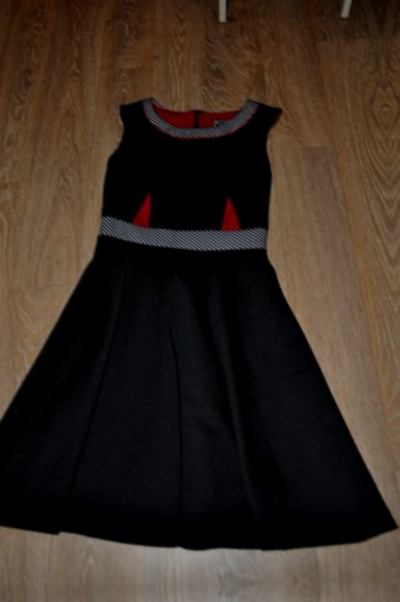Dress: (0, 70, 400, 573), (386, 49, 400, 551), (0, 600, 400, 602)
